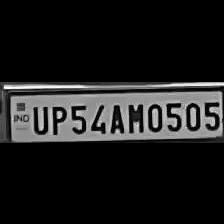0: (182, 99, 202, 131), (145, 100, 163, 132)
4: (86, 100, 106, 134)
5: (66, 102, 88, 134), (200, 97, 220, 130), (162, 100, 182, 132)
A: (106, 100, 126, 134)
M: (124, 100, 144, 132)
P: (48, 102, 68, 134)
U: (29, 102, 49, 134)
